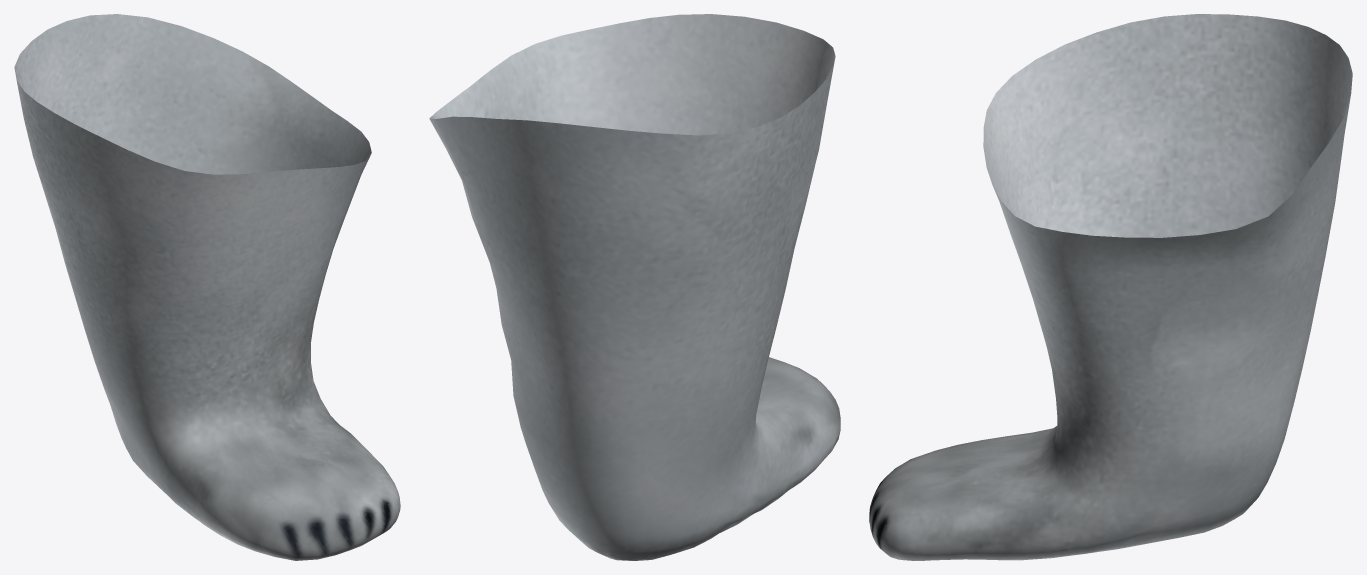
The model's file is Polar_Bear_FR_Leg.obj.
The picture shows the model from 3 angles, left to right: view 1: azimuth 30°, elevation 25°; view 2: azimuth 150°, elevation 25°; view 3: azimuth 270°, elevation 25°; orthographic projection. The views are drawn at different scales.
Visible parts, largest first — view 1: Polar_Bear_Quad.002; view 2: Polar_Bear_Quad.002; view 3: Polar_Bear_Quad.002.
Part boxes in pixels (x1=…): Polar_Bear_Quad.002: x1=14, y1=14, x2=400, y2=560; Polar_Bear_Quad.002: x1=429, y1=14, x2=840, y2=560; Polar_Bear_Quad.002: x1=869, y1=14, x2=1352, y2=560.
Size of the model in its own units: 0.3471 by 0.4742 by 0.4656.
